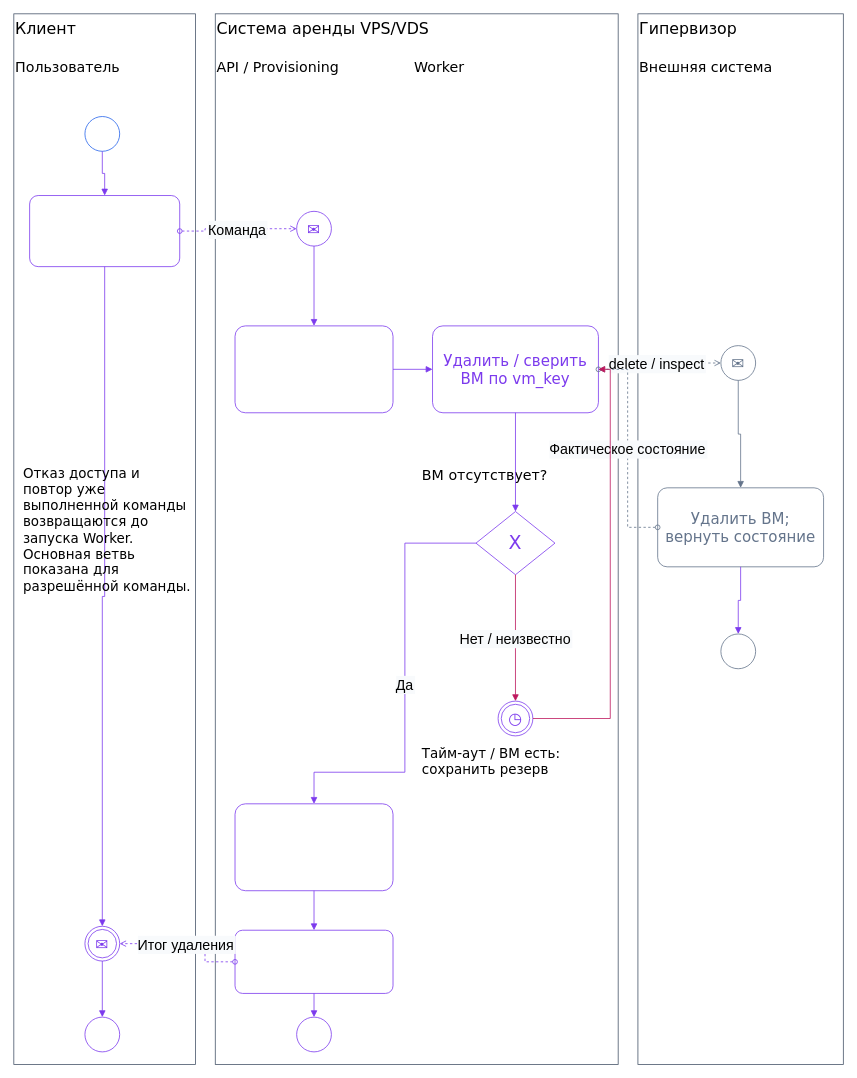
Image size: 857x1078. Some labels were removed from this diagram. The shapes that lost their labels are listed below. From the top down, each one's box as (x1, y1, x2, y2) in pixels, then its label:
(29, 195, 180, 267): Запросить удаление VPS
(234, 325, 393, 413): Проверить доступ; DELETING; commit
(234, 803, 393, 891): DELETED; снять резерв; аудит; commit
(234, 929, 393, 993): Вернуть результат
